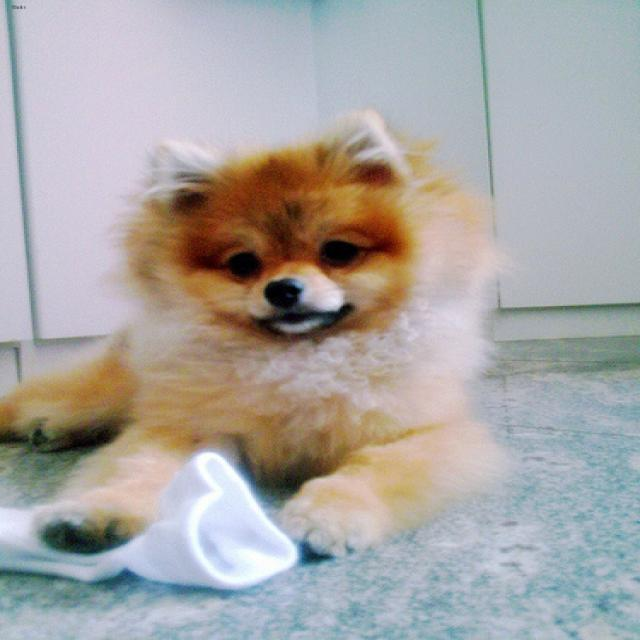dog-pomeranian: (2, 99, 538, 575)
